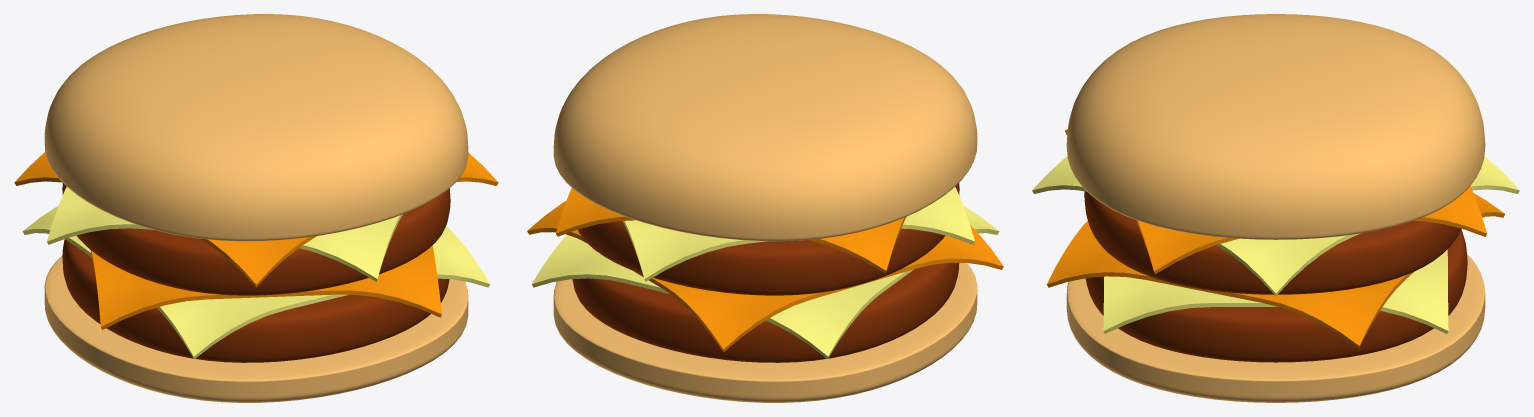
File: hamburger_drako.gltf
3 views of the same model, side by side, from view 1: azimuth 30°, elevation 25°; view 2: azimuth 150°, elevation 25°; view 3: azimuth 270°, elevation 25° (orthographic).
Parts seen in each view (by area): view 1: Cube.002, Cube, Cube.001, Cube.003, Plane.002, Plane, Plane.001, Plane.003; view 2: Cube.002, Cube, Cube.001, Cube.003, Plane, Plane.002, Plane.001, Plane.003; view 3: Cube.002, Cube, Cube.003, Cube.001, Plane.002, Plane, Plane.001, Plane.003.
Boxes of the visible parts, <box> form: Cube.002: <box>44,14,468,241</box>; Cube: <box>44,256,468,402</box>; Cube.001: <box>62,239,449,362</box>; Cube.003: <box>62,183,450,295</box>; Plane.002: <box>90,245,441,329</box>; Plane: <box>22,205,490,358</box>; Plane.001: <box>47,187,402,281</box>; Plane.003: <box>14,152,498,287</box>; Cube.002: <box>553,14,977,241</box>; Cube: <box>553,263,977,402</box>; Cube.001: <box>572,262,959,362</box>; Cube.003: <box>578,183,959,295</box>; Plane: <box>531,205,999,358</box>; Plane.002: <box>527,200,1003,351</box>; Plane.001: <box>623,187,974,281</box>; Plane.003: <box>556,188,906,273</box>; Cube.002: <box>1066,14,1485,239</box>; Cube: <box>1066,254,1485,402</box>; Cube.003: <box>1084,191,1460,294</box>; Cube.001: <box>1085,229,1467,362</box>; Plane.002: <box>1047,193,1504,348</box>; Plane: <box>1103,249,1448,333</box>; Plane.001: <box>1032,156,1519,295</box>; Plane.003: <box>1065,129,1487,274</box>.
Bounding box in the file's own units: 2.14 × 1.28 × 2.14.
